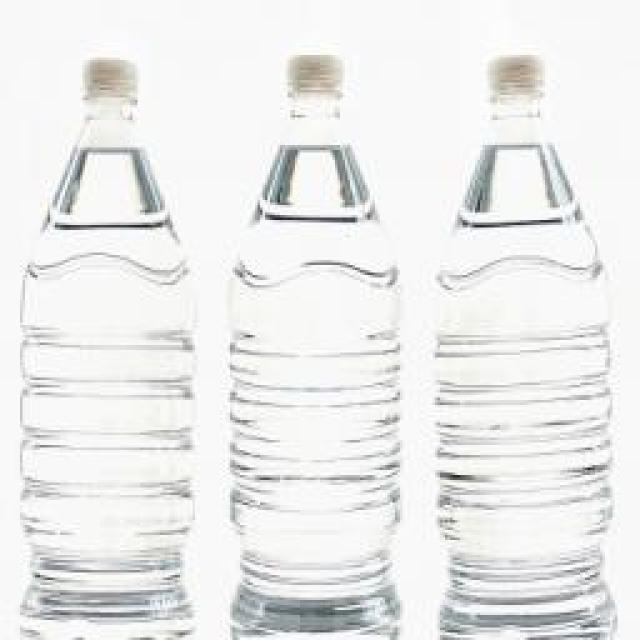bottle: (435, 51, 615, 640), (20, 61, 201, 640), (227, 55, 403, 640)
